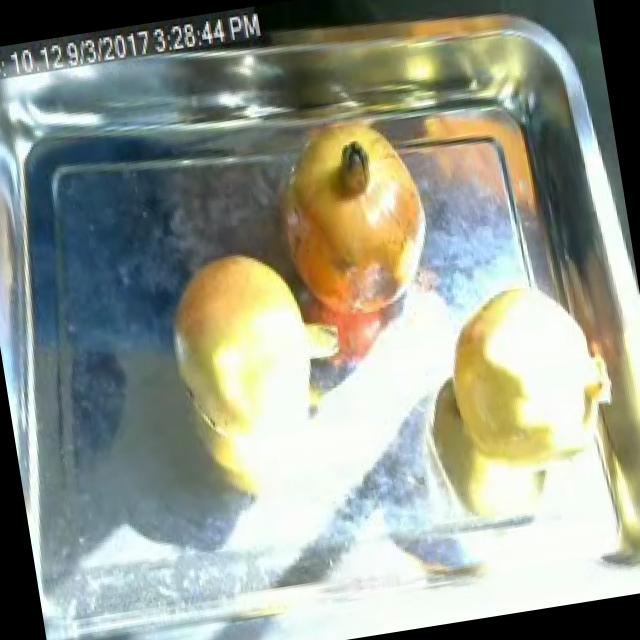fruit: (424, 258, 635, 536), (144, 222, 368, 466), (256, 104, 448, 340)
